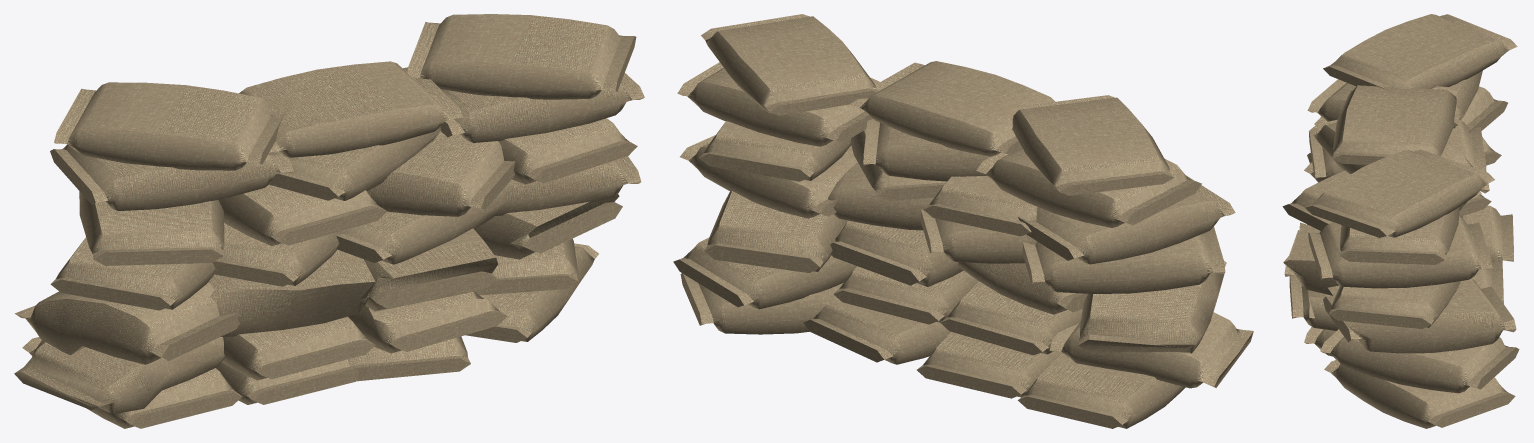
3 renders of one model, left to right at view 1: azimuth 30°, elevation 25°; view 2: azimuth 150°, elevation 25°; view 3: azimuth 270°, elevation 25°, orthographic. The views are drawn at different scales.
Parts seen in each view (by area): view 1: 立方体.017; view 2: 立方体.017; view 3: 立方体.017.
Boxes of the visible parts, x1,y1,x2,y2 form: 立方体.017: (14,14,644,428); 立方体.017: (673,14,1253,428); 立方体.017: (1282,14,1519,428).
Bounding box in the file's own units: 5.43 × 2.44 × 2.32.
